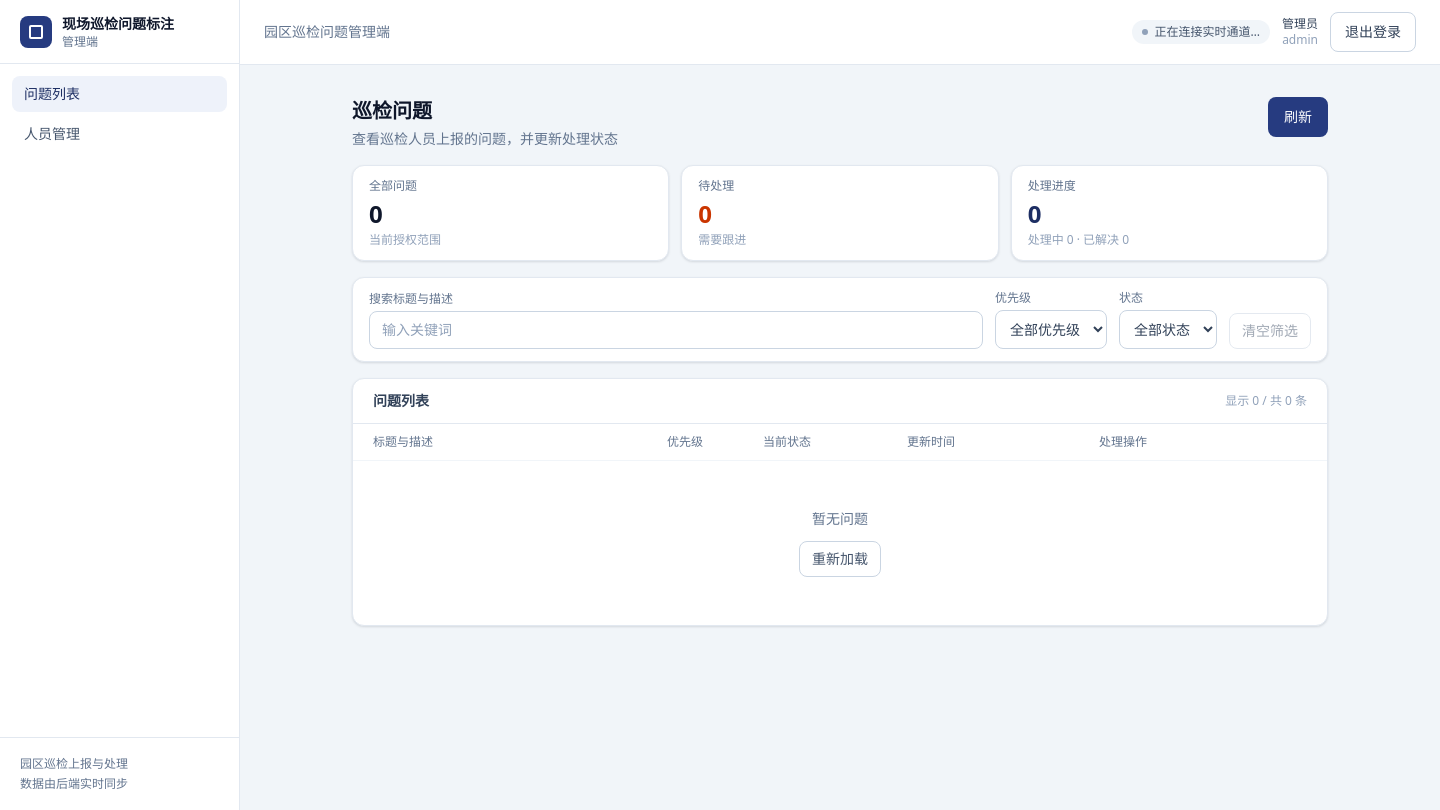
Test: 双入口导航（计划 008） › 切到人员管理再切回：问题工作台保持挂载，不重新请求列表
This screenshot has width=1440, height=810.
Click the button "人员管理": (120, 134) [12,116,227,152]
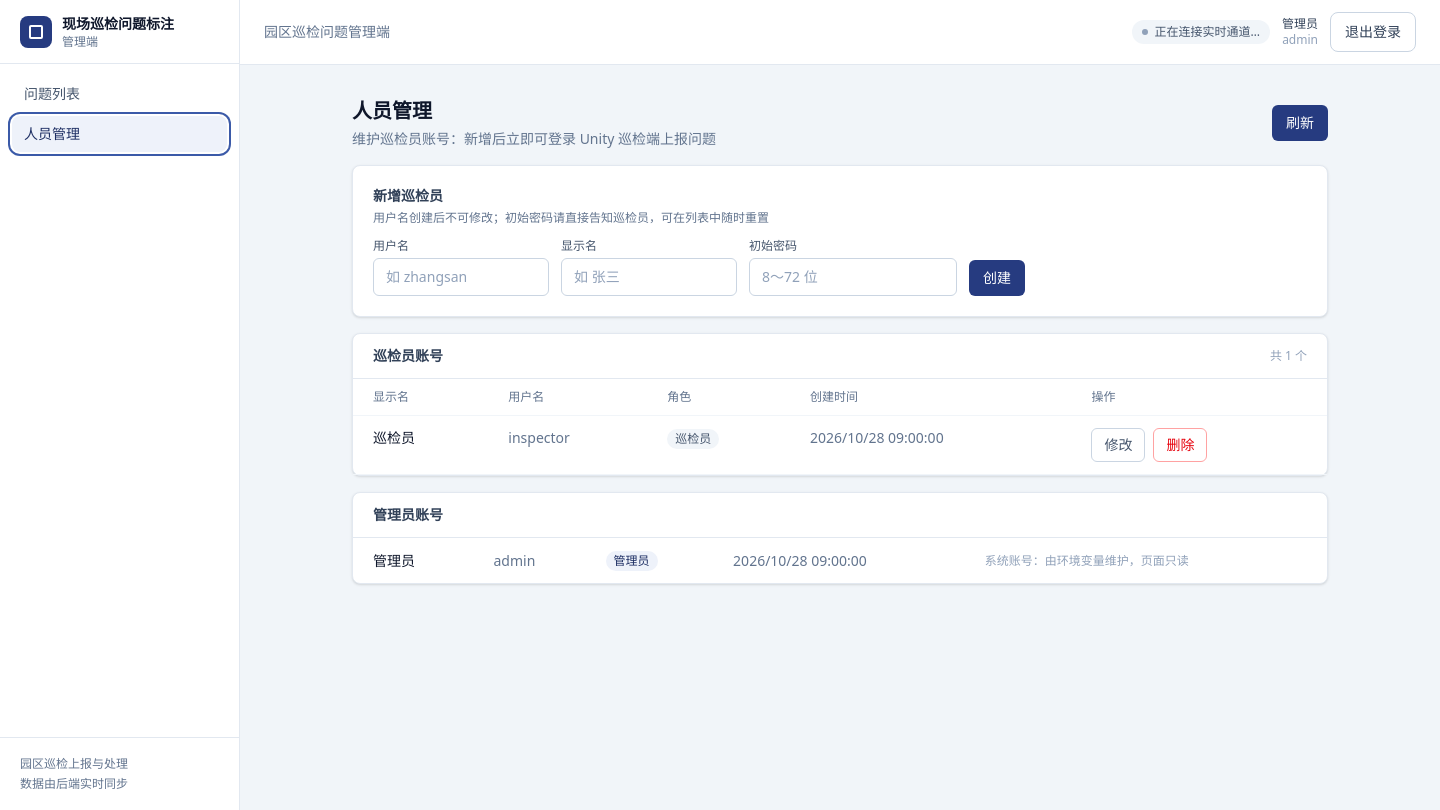
Result: the heading "新增巡检员" is shown at [373,186,443,205]
Click the button "问题列表": (120, 94) [12,76,227,112]
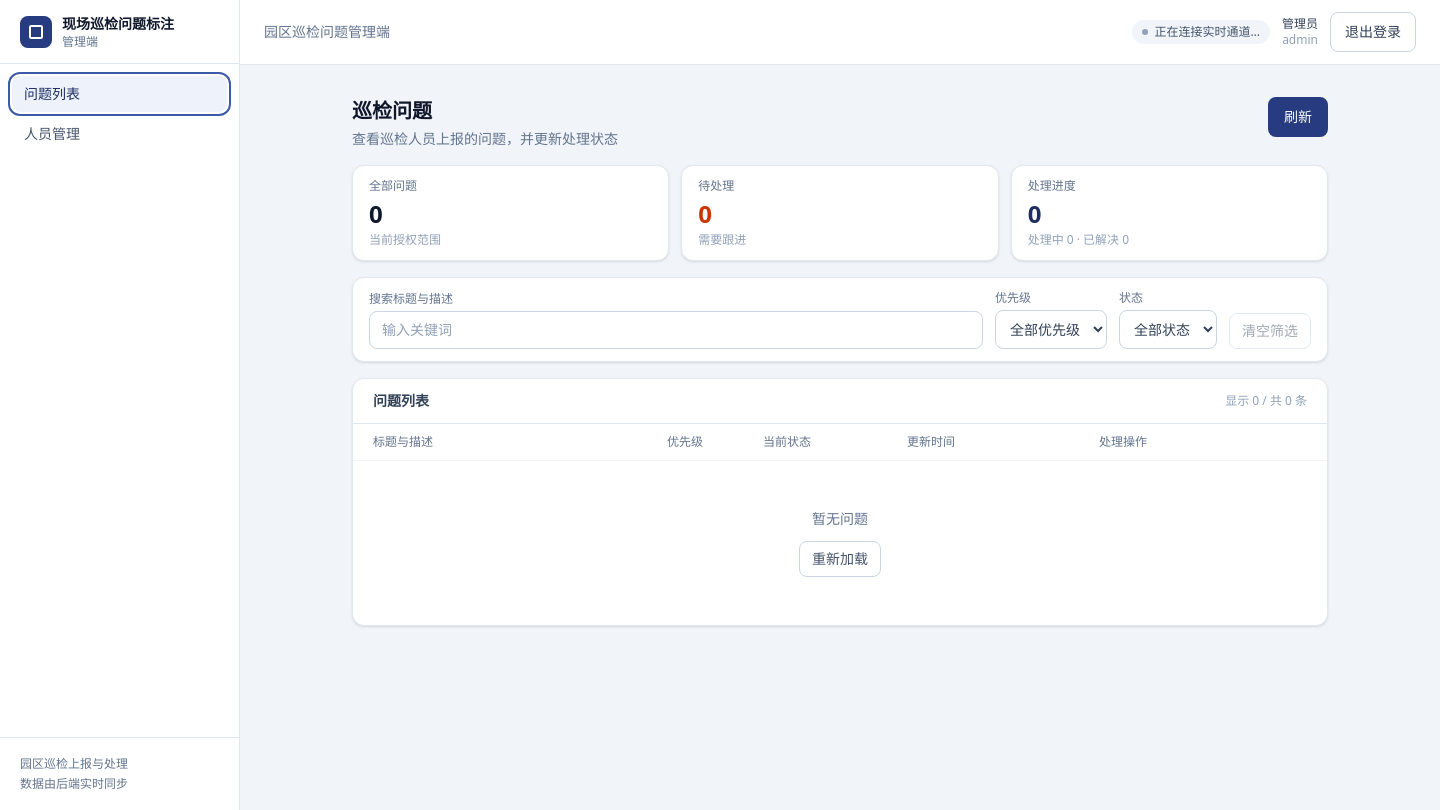
Result: the text "暂无问题" is shown at [812,509,868,528]
